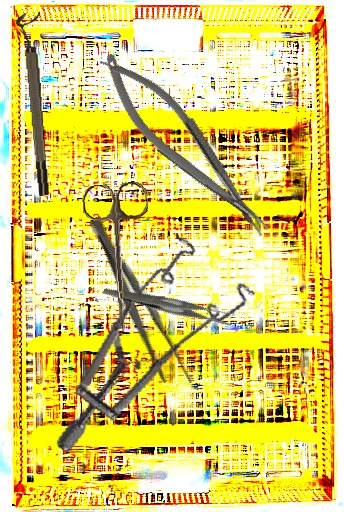Dressing Forceps: (78, 211, 197, 396), (102, 249, 237, 359)
Fixation Ring: (15, 12, 53, 197)
Iris Scissors: (81, 180, 159, 335)
Needle Holder: (88, 39, 279, 253)
Speculum: (53, 218, 266, 486)
